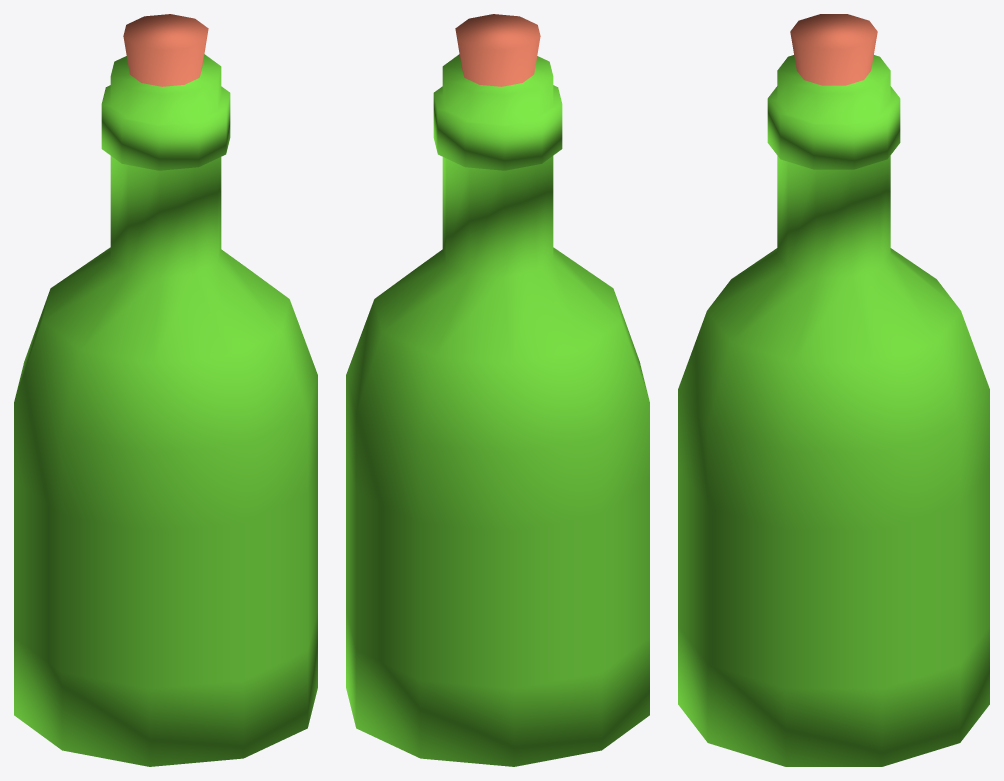
The model's file is bottle1.fbx.
3 renders of one model, left to right at view 1: azimuth 30°, elevation 25°; view 2: azimuth 150°, elevation 25°; view 3: azimuth 270°, elevation 25°, orthographic.
Parts seen in each view (by area): view 1: bottle01; view 2: bottle01; view 3: bottle01.
Part boxes in pixels (left/top/right/bottom): bottle01: left=14, top=14, right=317, bottom=766; bottle01: left=346, top=14, right=649, bottom=766; bottle01: left=678, top=14, right=989, bottom=766.
Size of the model in its own units: 23.15 by 57.92 by 24.35.
